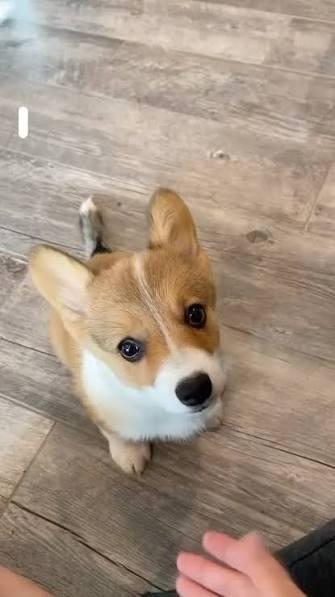puppy-dog: (23, 183, 228, 478)
